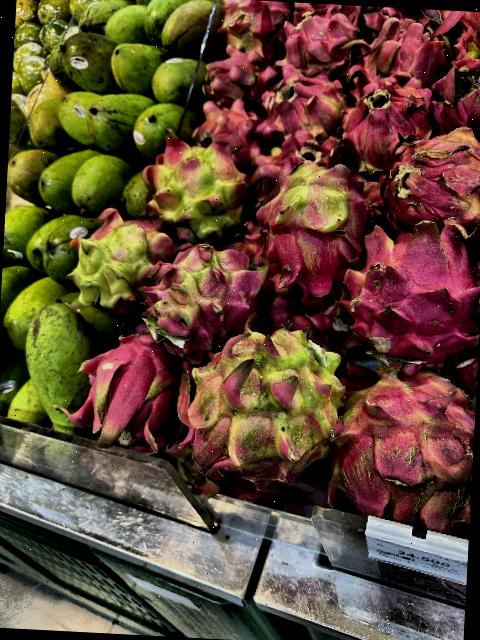buah-naga-belum-matang: (167, 326, 343, 514), (325, 348, 478, 544), (130, 220, 268, 354), (252, 146, 373, 294), (134, 128, 260, 242), (59, 203, 171, 320), (384, 121, 480, 238), (253, 67, 347, 146), (189, 95, 269, 169), (215, 0, 289, 57)
buah-naga-matang: (340, 226, 480, 372), (69, 315, 184, 461), (336, 68, 438, 167), (357, 18, 447, 90), (275, 6, 358, 83), (432, 50, 480, 136), (199, 50, 270, 106)
